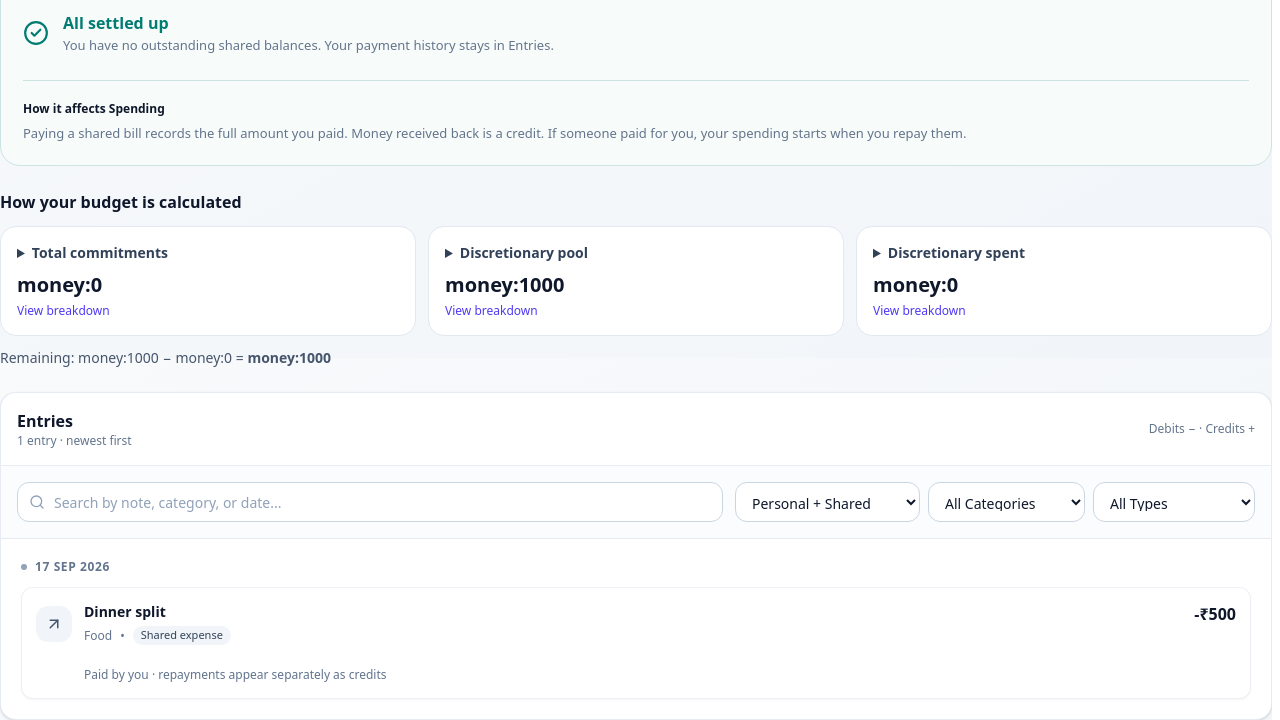
Spending regressions › renders a split as an expense and supports search and type filters
The image size is (1280, 720).
(page scrolled)
Expected: the text "Shared expense" is shown, [133, 626, 231, 645]
Step 1. Type "missing" into the field named "Search entries" → (370, 502), box [17, 482, 723, 522]
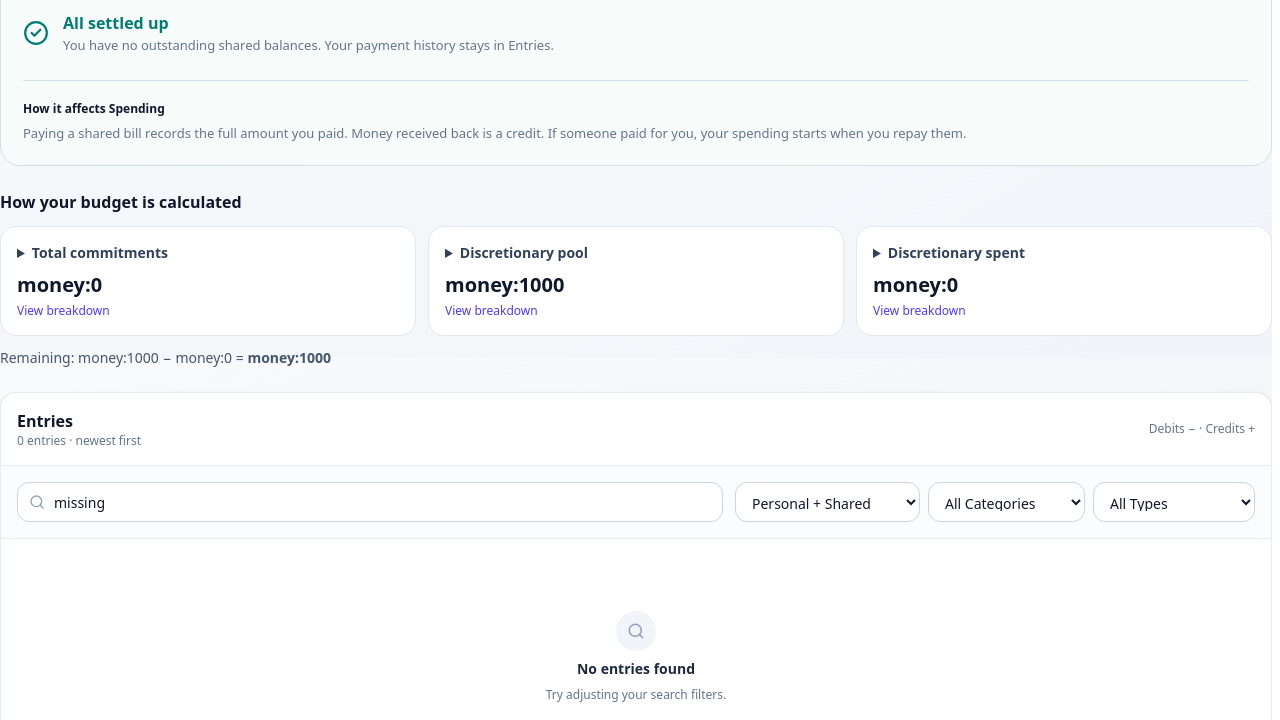
Expected: the text "No entries found" is shown, [577, 659, 695, 679]
Step 2. Replace the text in the field named "Search entries" with "dinner" → (370, 502), box [17, 482, 723, 522]
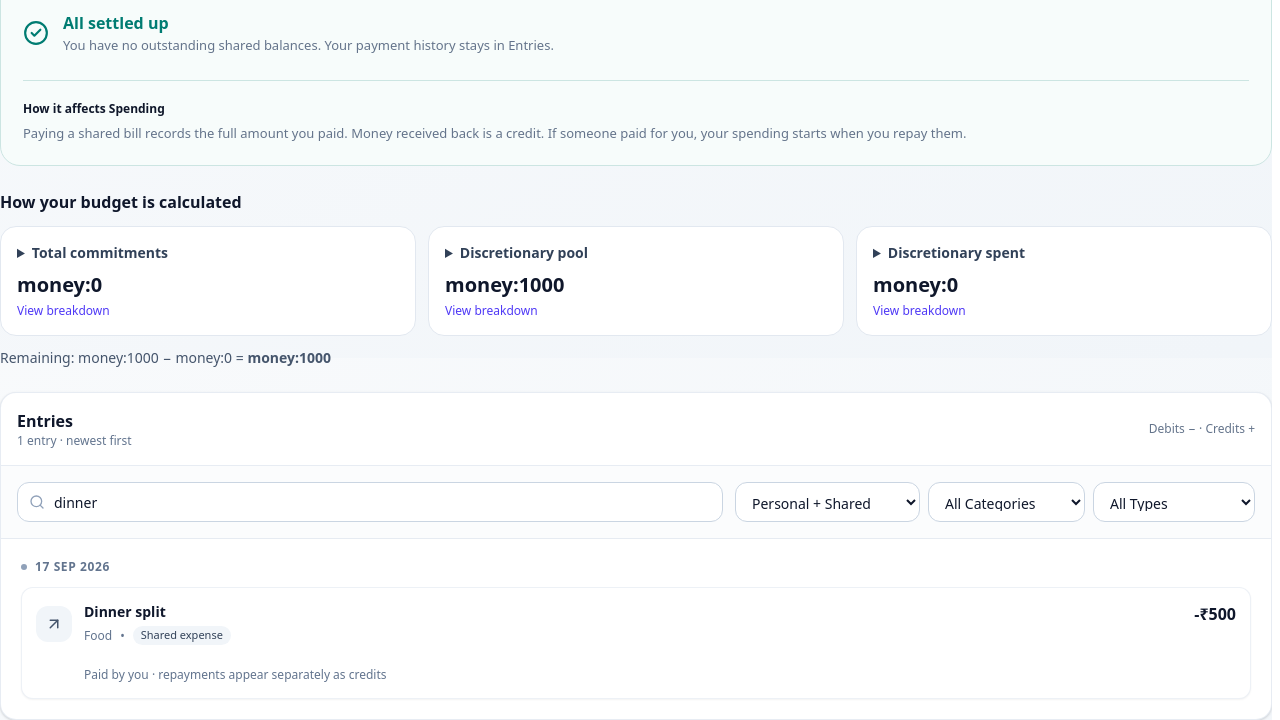
Expected: the text "Dinner split" is shown once, [84, 602, 166, 621]
Step 3. Select "Personal Only" in the dropdown named "Filter personal or shared expenses" → (828, 502), box [735, 482, 920, 522]
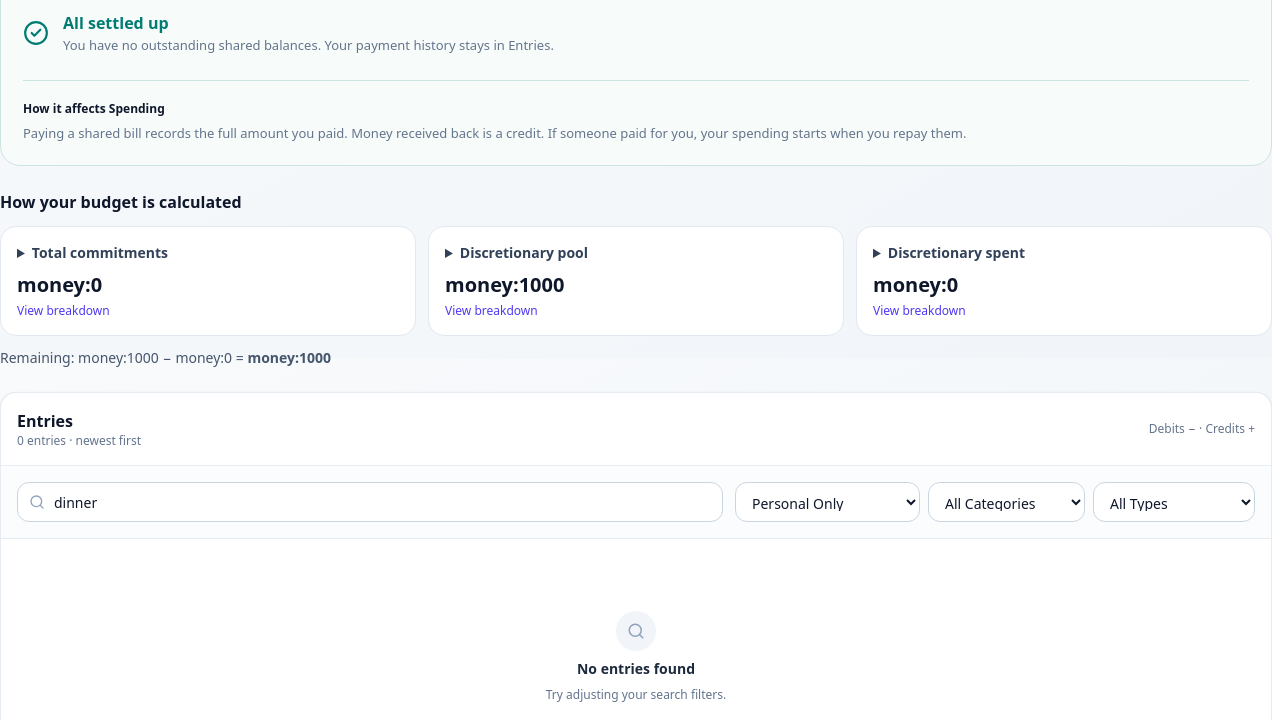
Expected: the text "No entries found" is shown, [577, 659, 695, 679]
Step 4. Select "Shared Only" in the dropdown named "Filter personal or shared expenses" → (828, 502), box [735, 482, 920, 522]
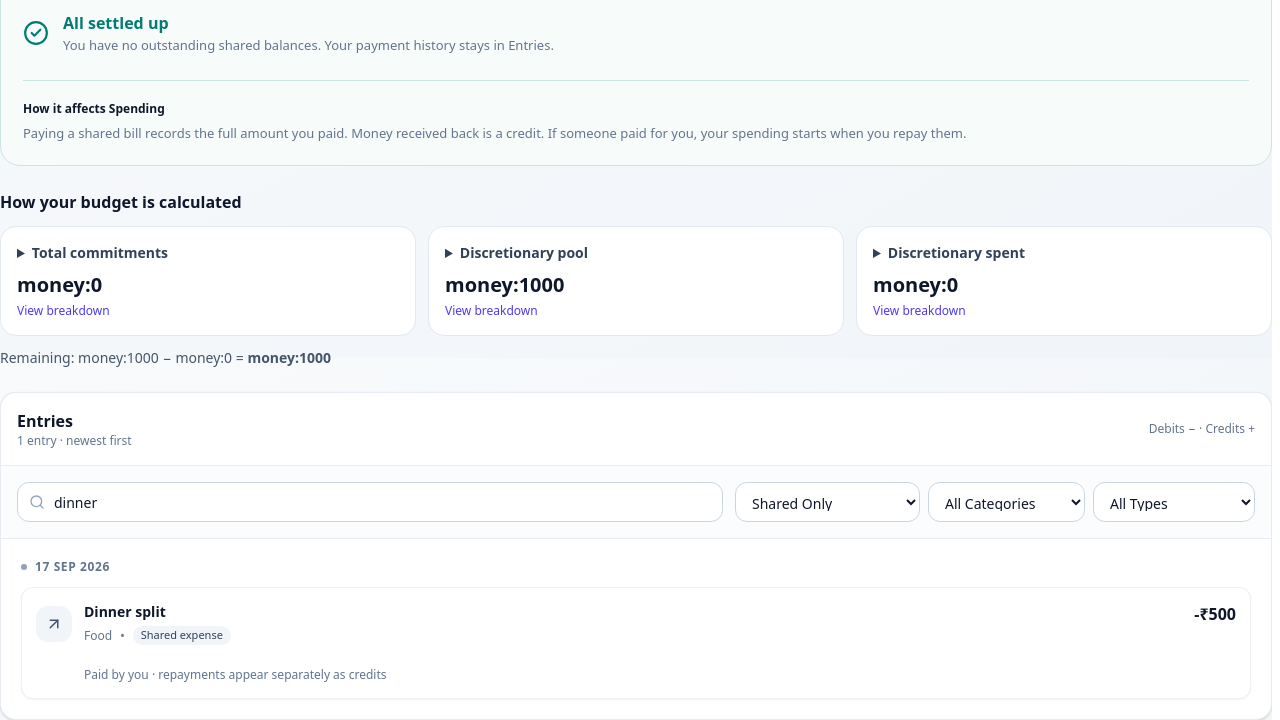
Expected: the text "Dinner split" is shown, [84, 602, 166, 621]
Step 5. Select "Income Only" in the dropdown named "Filter by type" → (1174, 502), box [1093, 482, 1255, 522]
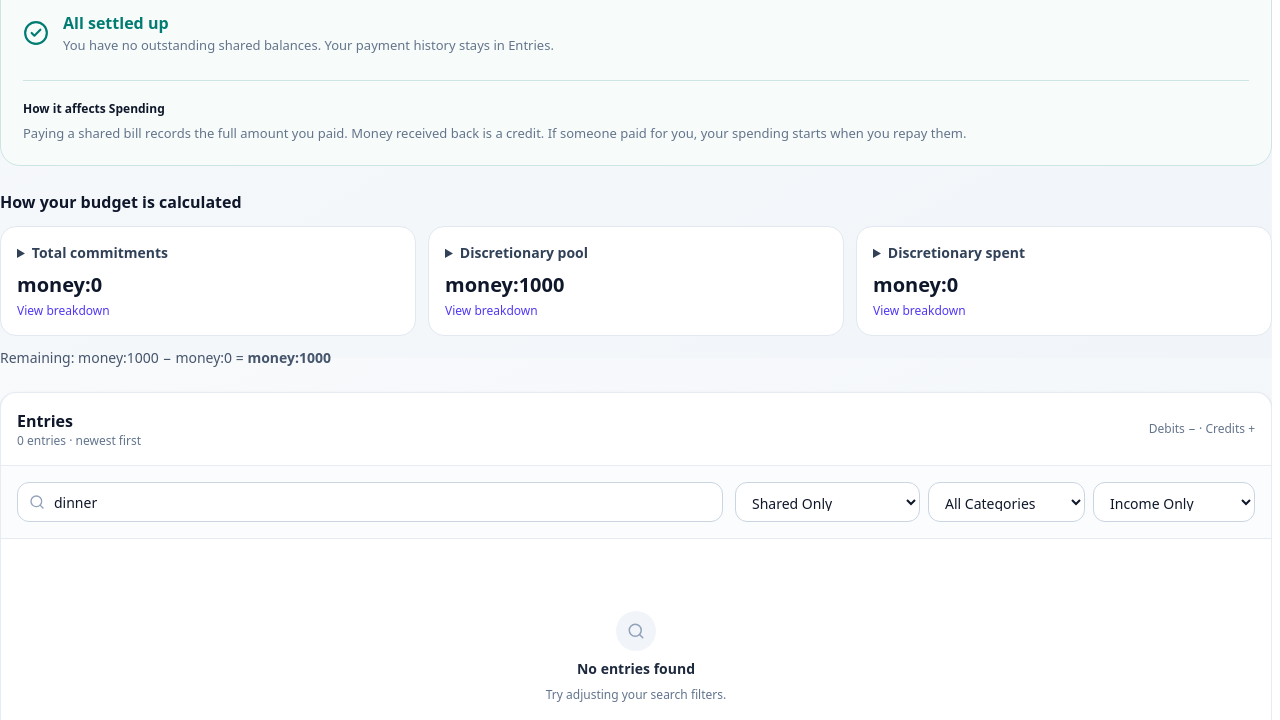
Expected: the text "No entries found" is shown, [577, 659, 695, 679]
